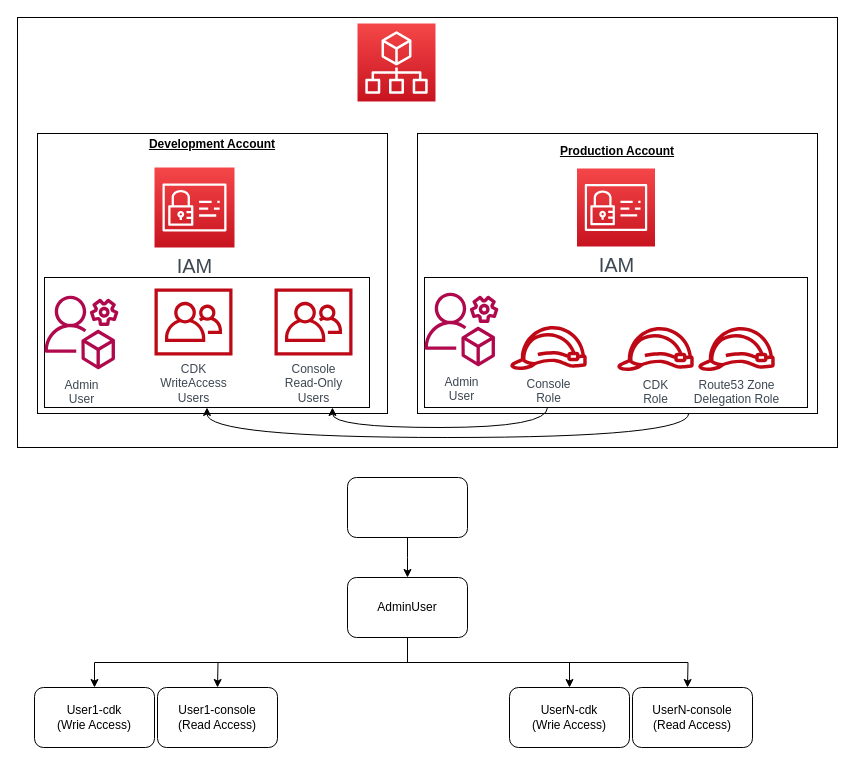
Image size: 855x765. Some labels were removed from this diagram. The centre of each missing label's shape, as x and y in pixels:
"Organization Unit" belongs at (x=396, y=62).
"RootUser" belongs at (x=407, y=507).
